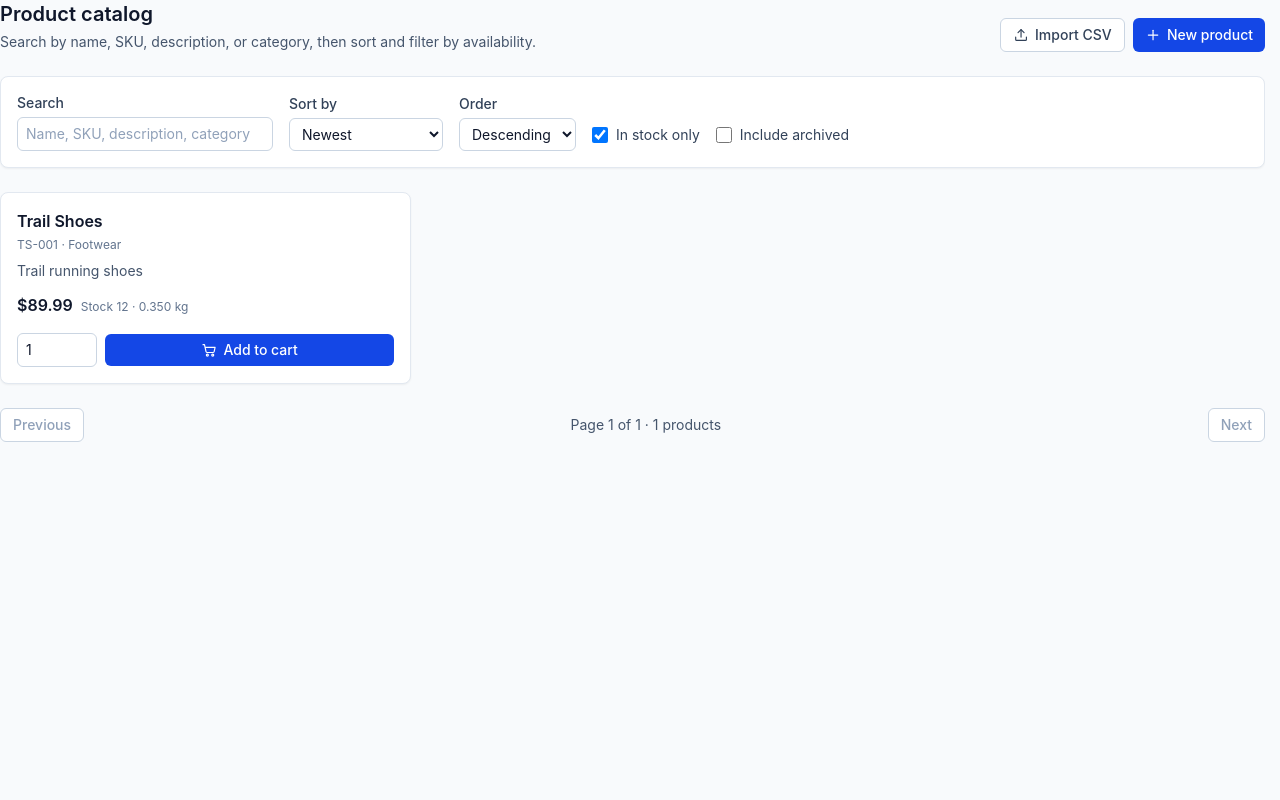
Scenario: CatalogPage actions › opens the create modal from the header and reports the new product
What coordinates should you click on to do the following:
click the button "New product"
I would click on:
 (1199, 35)
Its box is [1133,18,1265,52].
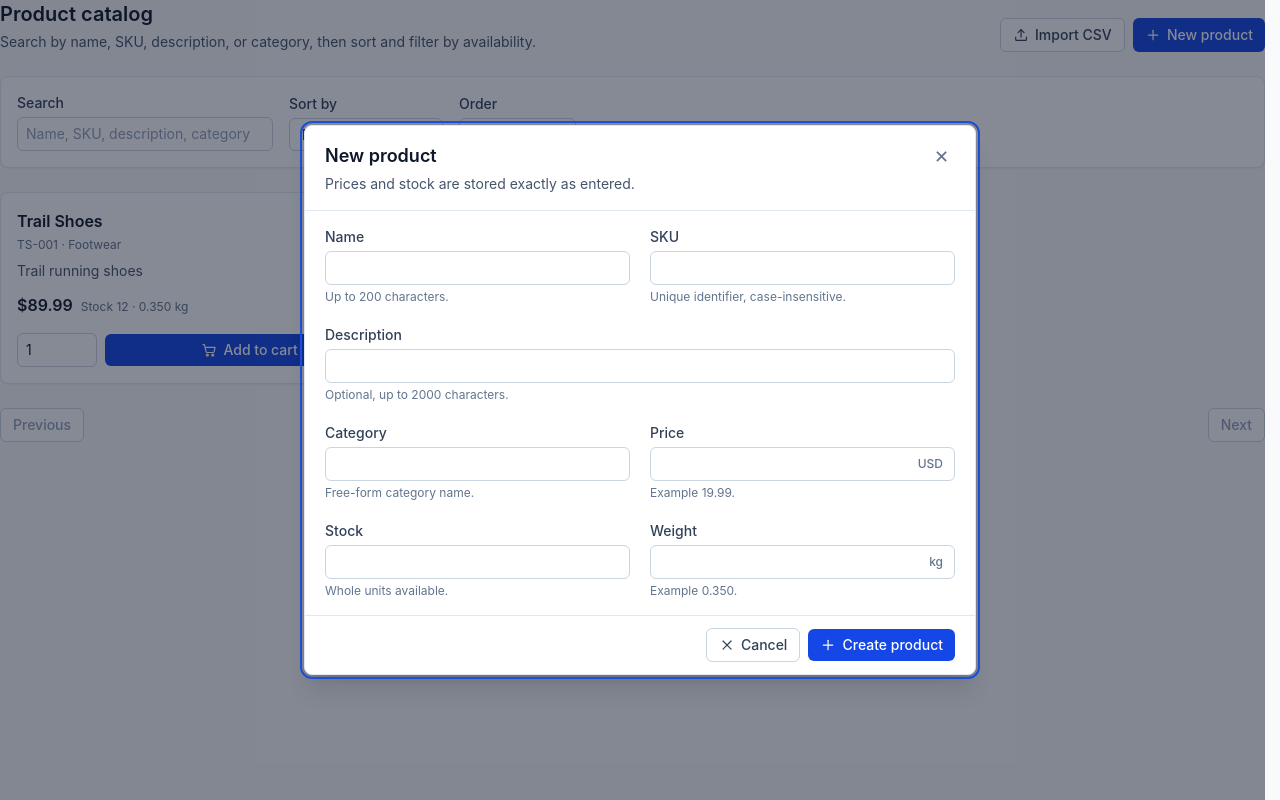
Expected: the dialog "New product" is shown, [304,125,976,675]
